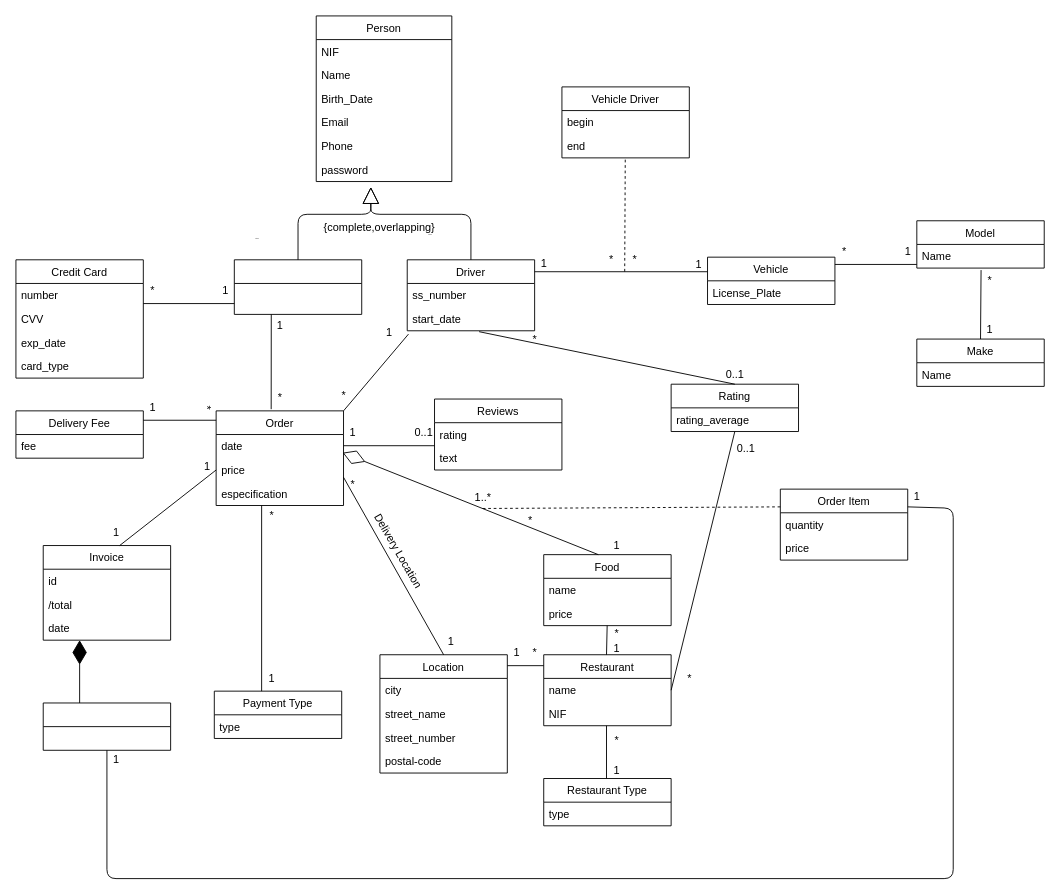
This 1060x895 diagram has some shape labels left out. The centre of each missing label's shape, as x and y in pixels:
Customer: the point at 297,286
Invoice Line: the point at 106,726
